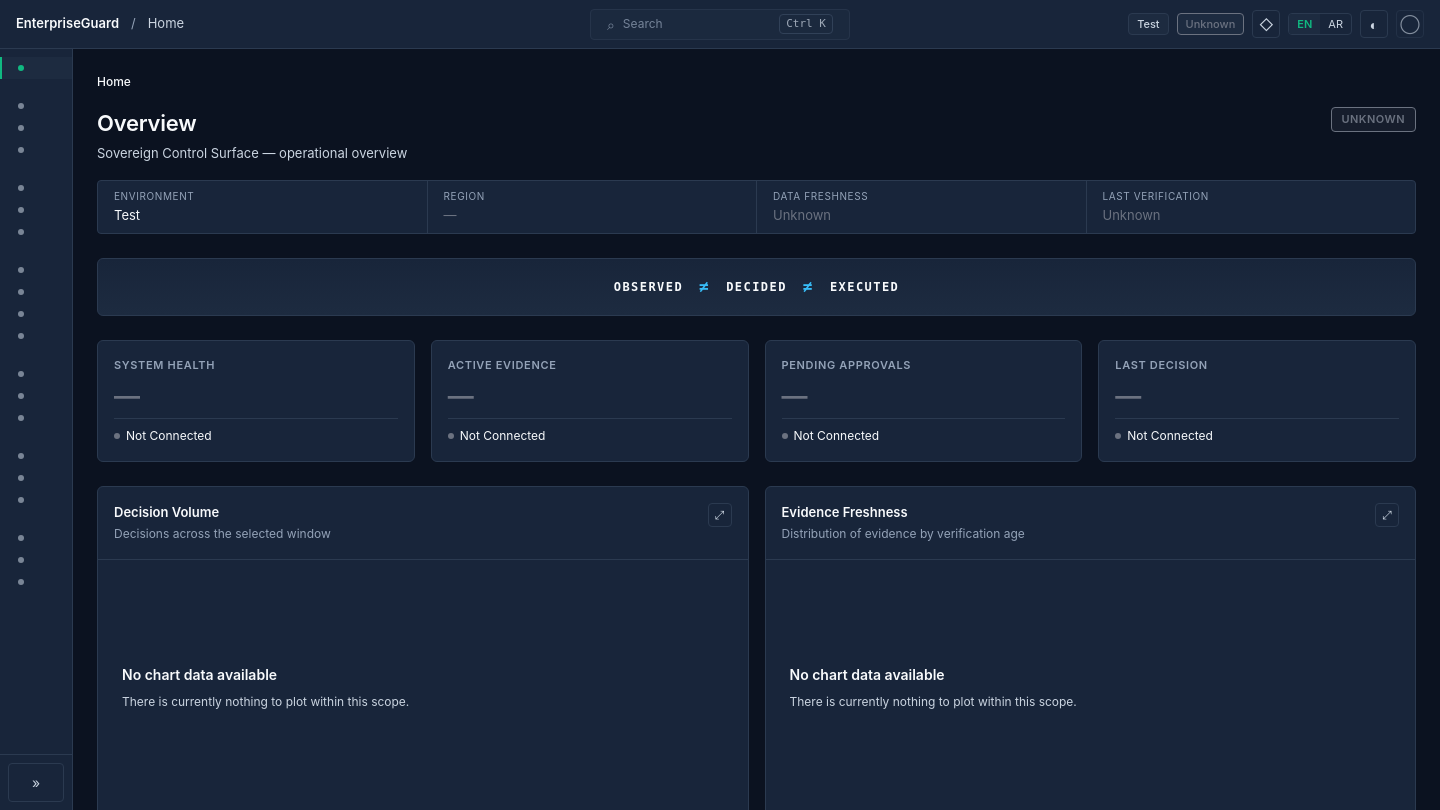
Test case: App (UI-01 foundation, routed) › navigates to another route when clicking a nav item
Click the 5th button with class "eg-nav__item" at (36, 188), box [0, 177, 72, 199]
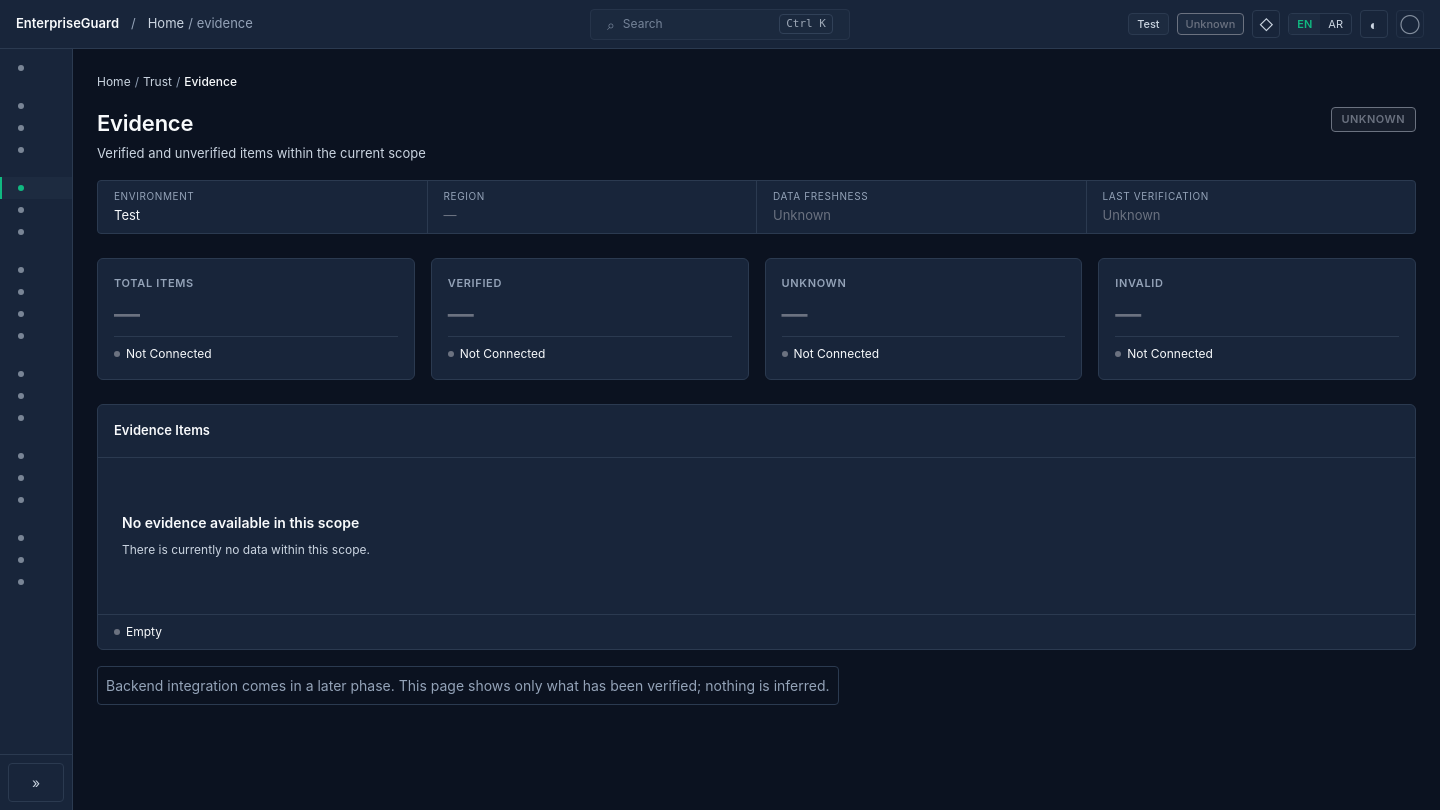
Check: the heading with class "eg-workspace__title" reads "Evidence", box [97, 110, 193, 136]
